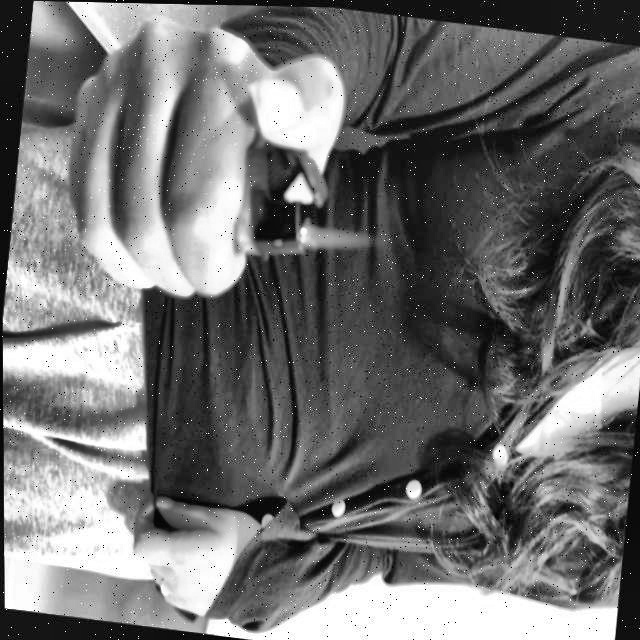Fire: (303, 217, 378, 260)
